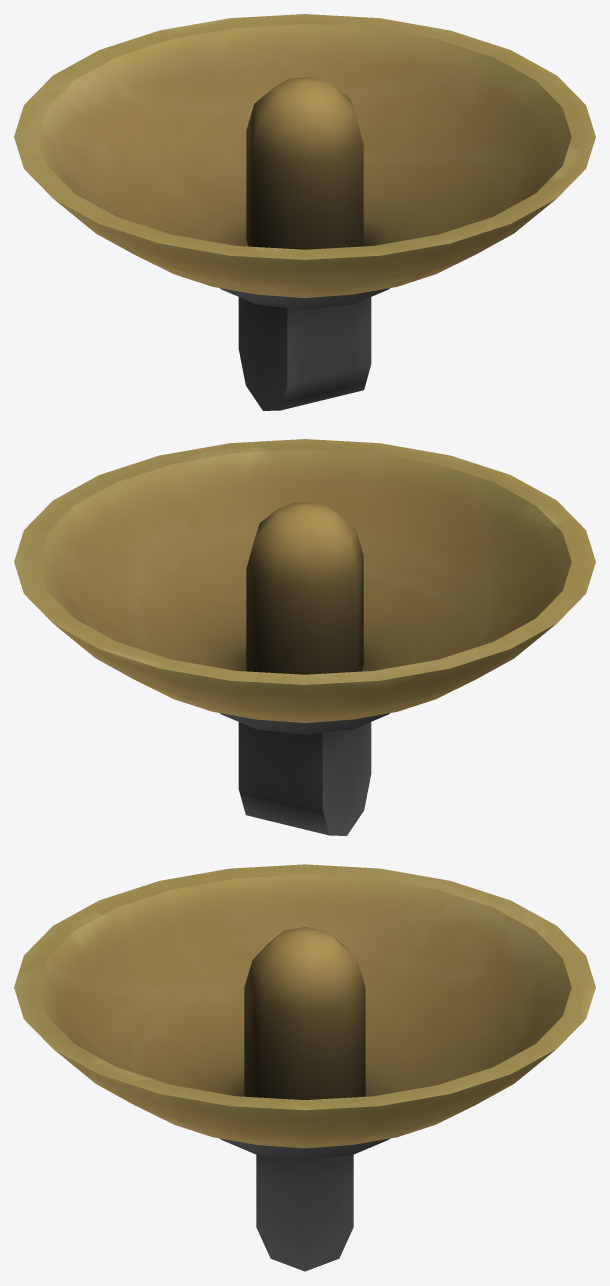
Rendered from octans_basic_high_gain_antenna_srf_1.obj.
3 views of the same model, one above another, from view 1: azimuth 30°, elevation 25°; view 2: azimuth 150°, elevation 25°; view 3: azimuth 270°, elevation 25° (orthographic).
Visible parts, largest first — view 1: mesh; view 2: mesh; view 3: mesh.
Part boxes in pixels (x1,y1,x2,y2): mesh: [14, 14, 595, 410]; mesh: [14, 439, 595, 835]; mesh: [14, 864, 595, 1271].
Bounding box in the file's own units: 0.3 × 0.1813 × 0.3.
Materials: 1 (1 with a texture image).
